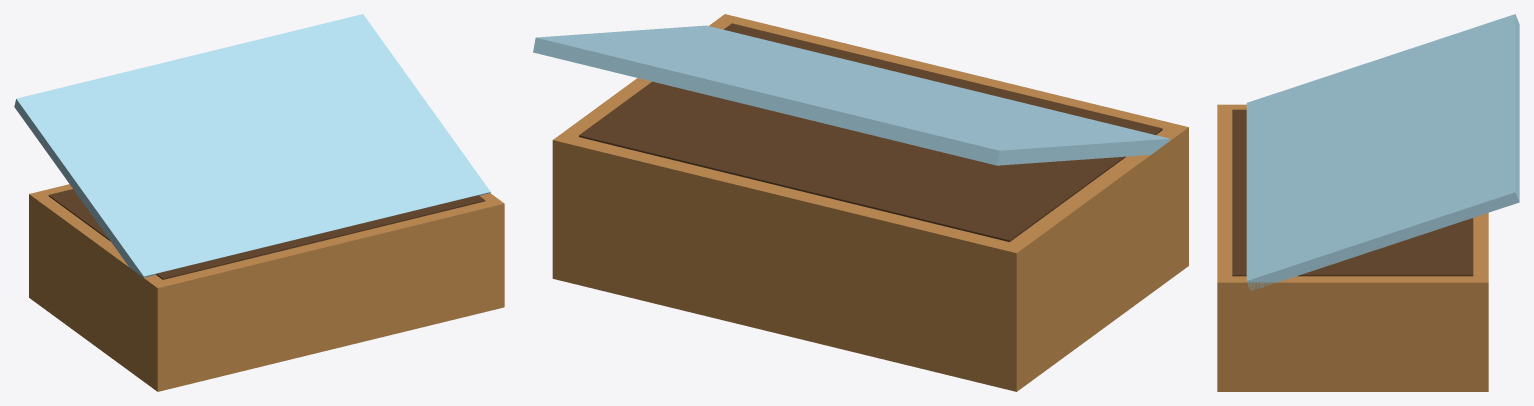
File: hydro_cold_frame.glb
3 renders of one model, left to right at view 1: azimuth 30°, elevation 25°; view 2: azimuth 150°, elevation 25°; view 3: azimuth 270°, elevation 25°, orthographic. The views are drawn at different scales.
Visible parts, largest first — view 1: cold_frame; view 2: cold_frame; view 3: cold_frame.
Part boxes in pixels (x1,y1,x2,y2): cold_frame: (14,14,504,391); cold_frame: (533,14,1188,391); cold_frame: (1217,14,1519,391).
Bounding box in the file's own units: 1.4 × 0.7317 × 1.
